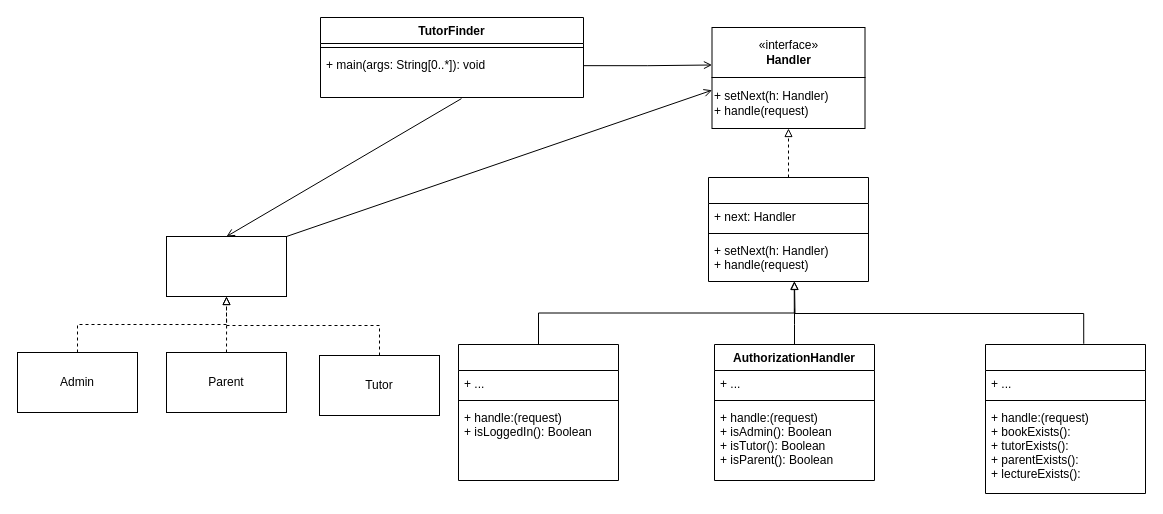
Some shapes in this 1163 by 514 pixel diagram are drawn without their labels. Each missing label, with the box of its shape:
AuthenticationHandler: (458, 344, 618, 480)
BaseHandler: (708, 176, 868, 282)
User: (166, 236, 286, 296)
ValidationHandler: (984, 344, 1146, 494)
